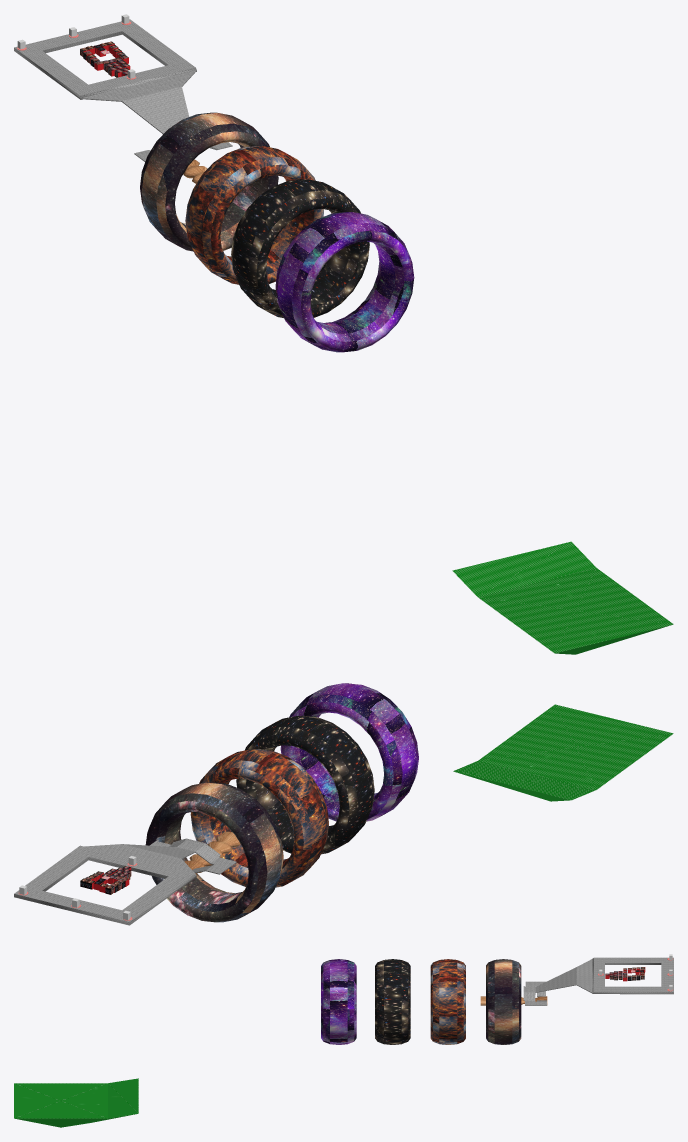
File: Level7.FBX
3 renders of one model, top to bottom at view 1: azimuth 30°, elevation 25°; view 2: azimuth 150°, elevation 25°; view 3: azimuth 270°, elevation 25°, orthographic. The views are drawn at different scales.
Parts seen in each view (by area): view 1: Pyramid001, Torus004, Torus003, Tube001, Torus001, Torus002; view 2: Pyramid001, Torus001, Torus002, Torus003, Torus004, Tube001, WeirdHoveringPlatform; view 3: Pyramid001, Tube001, Torus002, Torus001, Torus003, Torus004.
Part boxes in pixels (x1,y1,x2,y2): Pyramid001: [452, 541, 673, 654]; Torus004: [275, 212, 414, 352]; Torus003: [231, 179, 369, 317]; Tube001: [14, 19, 232, 161]; Torus001: [140, 112, 278, 251]; Torus002: [185, 146, 323, 284]; Pyramid001: [453, 704, 673, 801]; Torus001: [145, 782, 283, 922]; Torus002: [190, 749, 328, 887]; Torus003: [236, 715, 374, 854]; Torus004: [280, 683, 418, 821]; Tube001: [14, 838, 236, 925]; WeirdHoveringPlatform: [184, 831, 240, 875]; Pyramid001: [14, 1078, 138, 1127]; Tube001: [523, 957, 673, 1005]; Torus002: [430, 959, 465, 1044]; Torus001: [486, 959, 521, 1044]; Torus003: [375, 959, 410, 1044]; Torus004: [321, 959, 356, 1044].
Bounding box in the file's own units: 428 × 896 × 3265.
10 materials, 10 textured.
